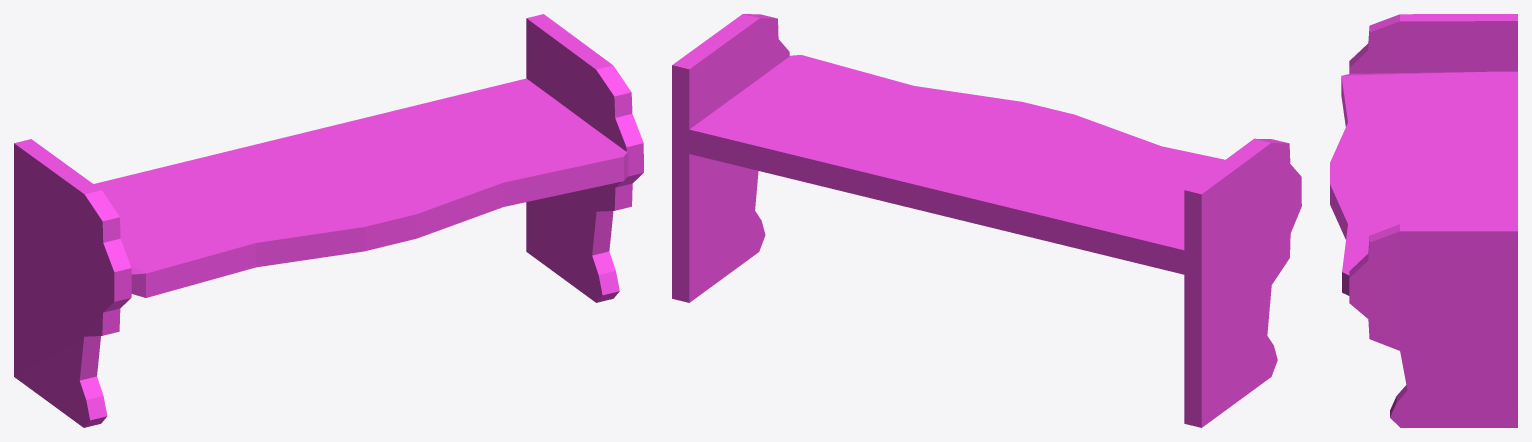
File: SM_Shelf_Wall_Decor_B_Fantasy.fbx
3 renders of one model, left to right at view 1: azimuth 30°, elevation 25°; view 2: azimuth 150°, elevation 25°; view 3: azimuth 270°, elevation 25°, orthographic. The views are drawn at different scales.
Parts seen in each view (by area): view 1: SM_Shelf_Wall_Decor_B_Fantasy; view 2: SM_Shelf_Wall_Decor_B_Fantasy; view 3: SM_Shelf_Wall_Decor_B_Fantasy.
Boxes of the visible parts, x1,y1,x2,y2 form: SM_Shelf_Wall_Decor_B_Fantasy: (14,14,643,427); SM_Shelf_Wall_Decor_B_Fantasy: (672,14,1301,427); SM_Shelf_Wall_Decor_B_Fantasy: (1330,14,1517,427).
Size of the model in its own units: 0.9995 by 0.4213 by 0.3651.
